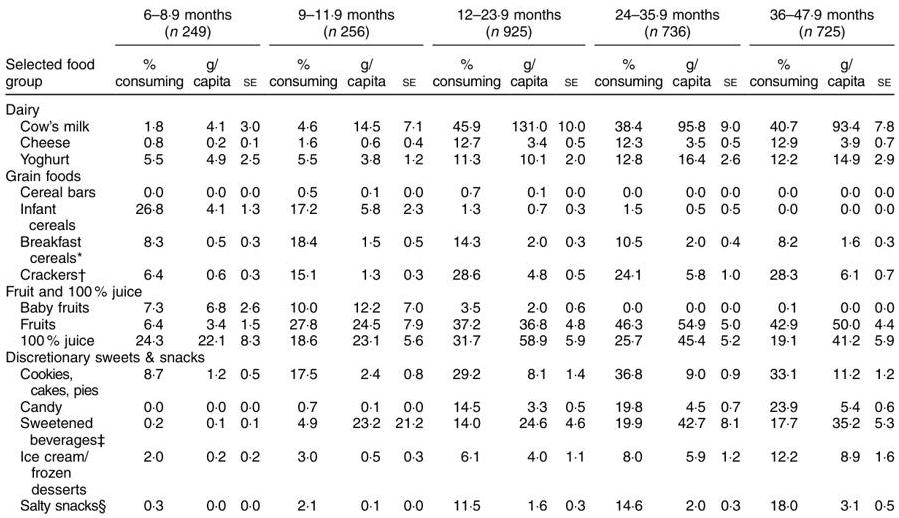table: (4, 5, 893, 513)
table column: (4, 5, 110, 513), (589, 5, 667, 513), (744, 5, 822, 513), (110, 5, 187, 513), (264, 5, 341, 513), (427, 5, 504, 513), (341, 5, 390, 513), (504, 5, 552, 513), (667, 5, 715, 513), (187, 5, 234, 513), (822, 5, 869, 513), (390, 5, 427, 513), (552, 5, 589, 513), (234, 5, 264, 513), (715, 5, 744, 513), (869, 5, 893, 513)
table column header: (4, 5, 893, 94)
table projected row header: (4, 94, 893, 116), (4, 166, 893, 182), (4, 282, 893, 298), (4, 348, 893, 364)
table row: (4, 446, 893, 496), (4, 47, 893, 94), (4, 5, 893, 47), (4, 199, 893, 232), (4, 232, 893, 265), (4, 364, 893, 397), (4, 413, 893, 446), (4, 94, 893, 116), (4, 116, 893, 133), (4, 149, 893, 166), (4, 182, 893, 199), (4, 265, 893, 282), (4, 314, 893, 331), (4, 331, 893, 348), (4, 496, 893, 513), (4, 133, 893, 149), (4, 166, 893, 182), (4, 282, 893, 298), (4, 298, 893, 314), (4, 348, 893, 364), (4, 397, 893, 413)
table spanning cell: (4, 5, 110, 94), (264, 5, 427, 47), (427, 5, 589, 47), (589, 5, 744, 47), (110, 5, 264, 47), (744, 5, 893, 47)
